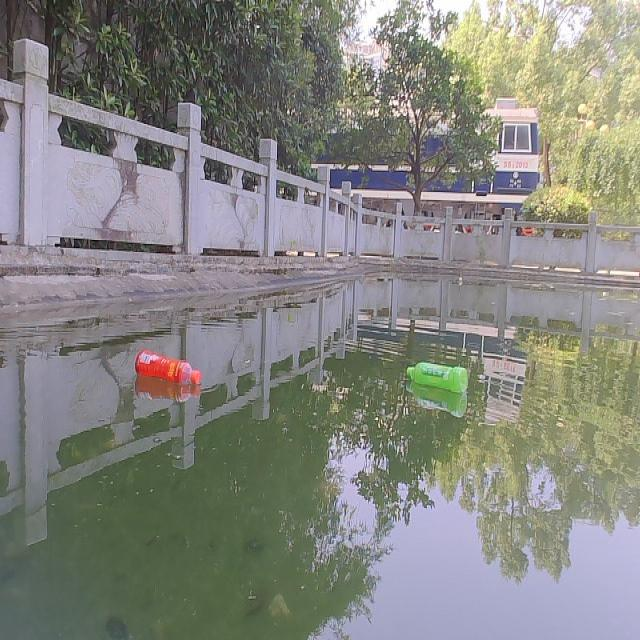Bottle: (133, 345, 204, 384), (405, 359, 467, 392)
